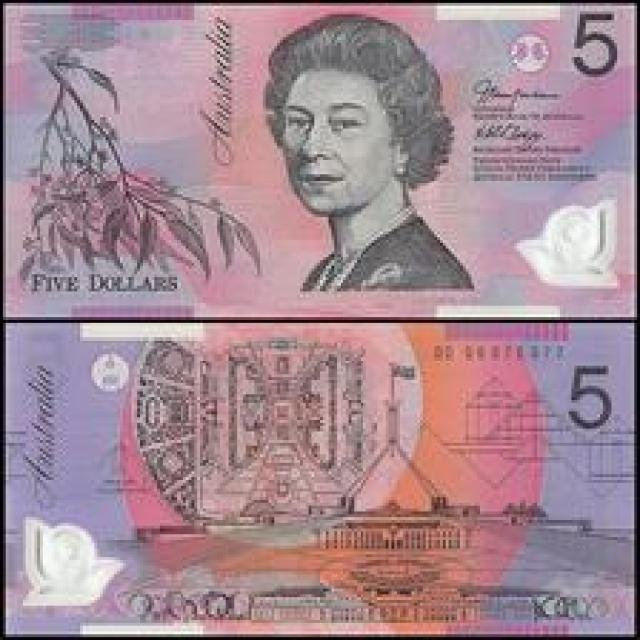banknote: (0, 314, 637, 634), (7, 2, 637, 316)
